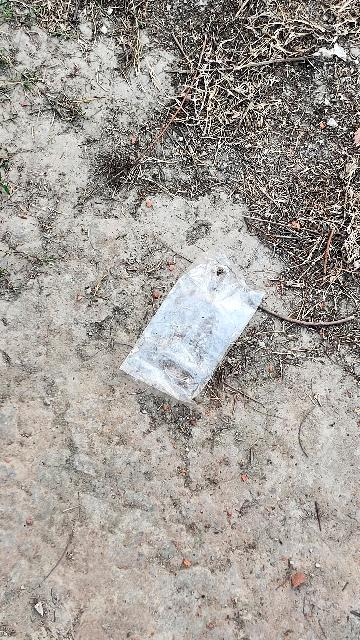polythene: (158, 242, 251, 396)
